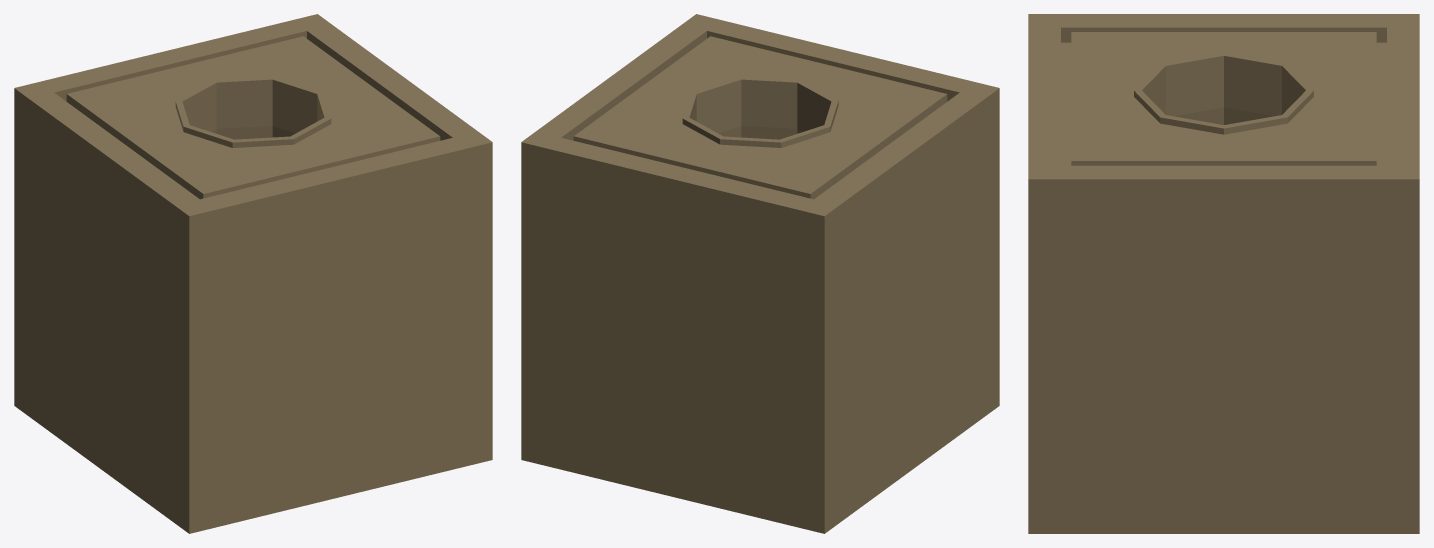
File: Trap_Body_low.fbx
The picture shows the model from 3 angles, left to right: view 1: azimuth 30°, elevation 25°; view 2: azimuth 150°, elevation 25°; view 3: azimuth 270°, elevation 25°; orthographic projection. The views are drawn at different scales.
Visible parts, largest first — view 1: Trap_Body_low; view 2: Trap_Body_low; view 3: Trap_Body_low.
Part boxes in pixels (bbox=[...]): Trap_Body_low: bbox=[14, 14, 492, 533]; Trap_Body_low: bbox=[521, 14, 999, 533]; Trap_Body_low: bbox=[1028, 14, 1419, 533].
Bounding box in the file's own units: 0.1245 × 0.1267 × 0.1245.
